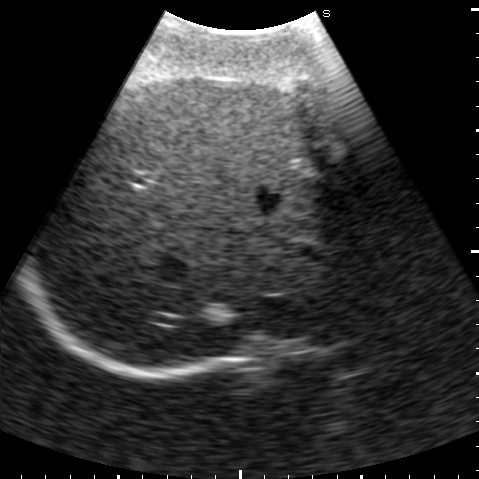S5: (111, 79, 329, 188)
S7: (39, 152, 147, 311)
S8: (86, 152, 360, 366)
Tumor: (202, 303, 237, 324)
